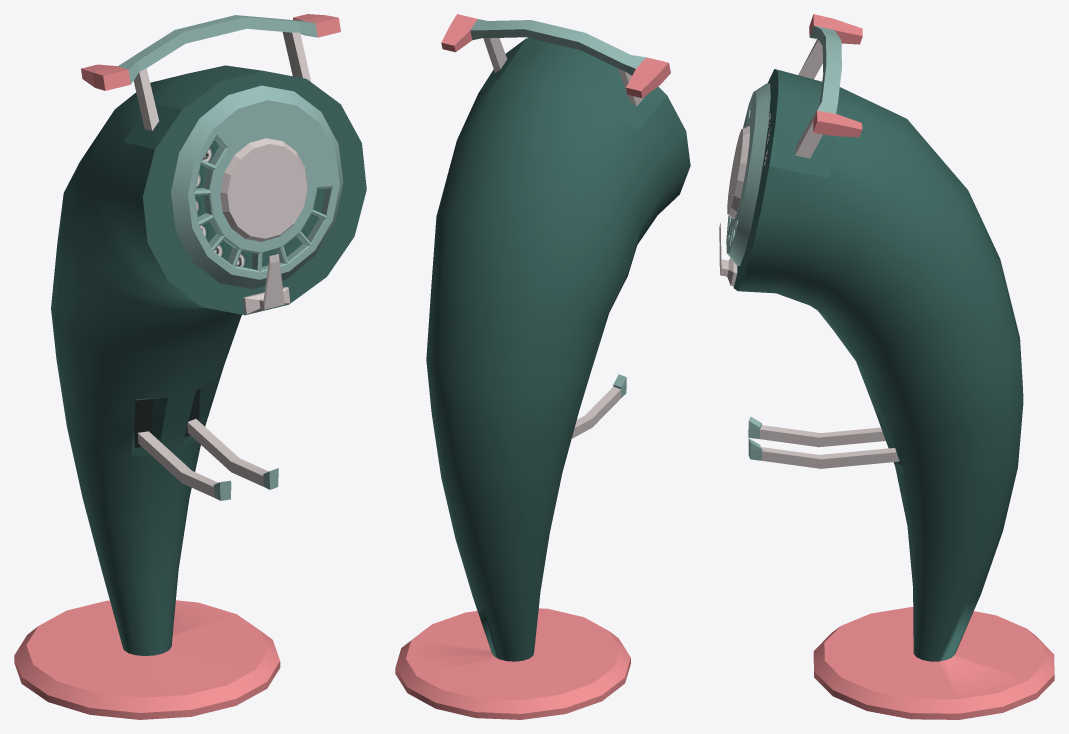
File: BaseStation.fbx
3 views of the same model, side by side, from view 1: azimuth 30°, elevation 25°; view 2: azimuth 150°, elevation 25°; view 3: azimuth 270°, elevation 25° (orthographic). The views are drawn at different scales.
Visible parts, largest first — view 1: polySurface2, polySurface1; view 2: polySurface2; view 3: polySurface2, polySurface1.
Boxes of the visible parts, x1,y1,x2,y2 form: polySurface2: (14, 14, 366, 719); polySurface1: (171, 85, 343, 289); polySurface2: (395, 14, 690, 719); polySurface2: (719, 14, 1054, 719); polySurface1: (726, 83, 770, 265).
Size of the model in its own units: 56.16 by 152 by 74.3.
